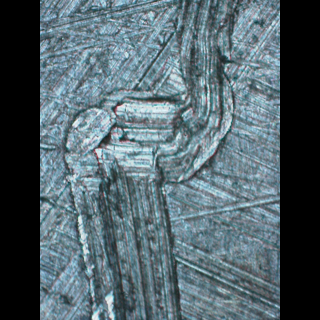d: (61, 0, 253, 317)
